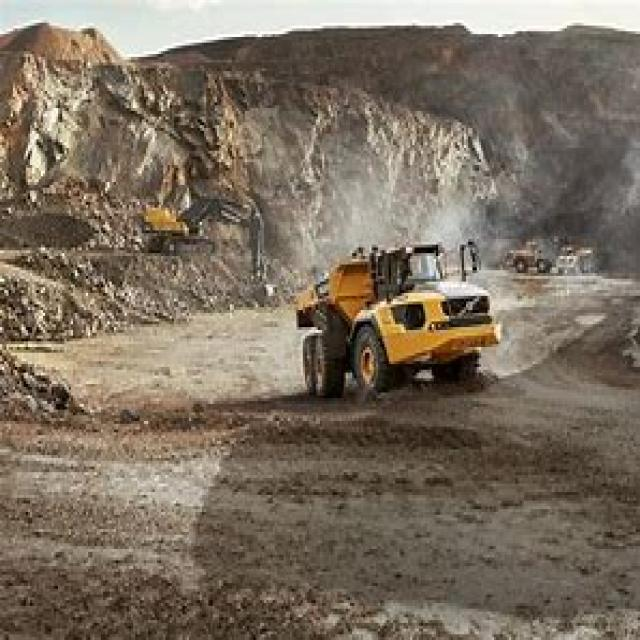dump_truck: (273, 228, 515, 412)
